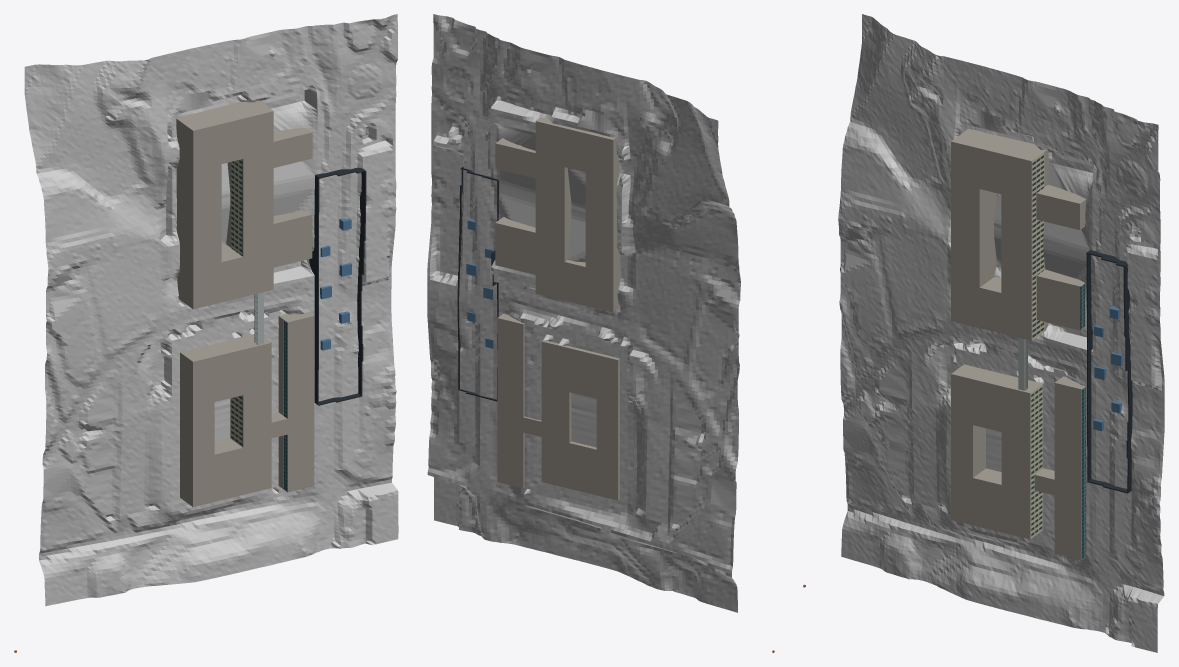
The model's file is povo_blockout.obj.
3 renders of one model, left to right at view 1: azimuth 30°, elevation 25°; view 2: azimuth 150°, elevation 25°; view 3: azimuth 330°, elevation 25°, orthographic. The views are drawn at different scales.
Parts seen in each view (by area): view 1: terrain, povo2_west, povo2_east, povo1_east_low_volume, povo1_west, povo1_east, povo2_southeast_annex, povo1_north, povo1_south, povo2_northeast_annex, povo2_north, povo2_south (+2 smaller); view 2: terrain, povo2_west, povo2_east, povo1_east_low_volume, povo1_east, povo1_west, povo2_southeast_annex, povo1_south, povo1_north, povo2_northeast_annex, povo2_south, povo2_north; view 3: terrain, povo2_west, povo2_east, povo1_east_low_volume, povo1_east, povo1_west, povo2_southeast_annex, povo2_northeast_annex, povo1_north, povo1_south, arch_povo1_core_east_0000, povo2_north (+3 smaller).
Part boxes in pixels (<box>): terrain: <box>24,14,398,606</box>; povo2_west: <box>176,111,221,309</box>; povo2_east: <box>226,100,273,296</box>; povo1_east_low_volume: <box>278,313,314,492</box>; povo1_west: <box>180,347,214,507</box>; povo1_east: <box>230,334,271,494</box>; povo2_southeast_annex: <box>273,211,312,267</box>; povo1_north: <box>202,340,243,401</box>; povo1_south: <box>214,438,243,501</box>; povo2_northeast_annex: <box>273,128,312,167</box>; povo2_north: <box>204,105,243,163</box>; povo2_south: <box>221,244,243,302</box>; terrain: <box>427,14,740,612</box>; povo2_west: <box>585,131,619,312</box>; povo2_east: <box>535,117,571,300</box>; povo1_east_low_volume: <box>497,314,524,488</box>; povo1_east: <box>541,340,571,488</box>; povo1_west: <box>596,353,619,500</box>; povo2_southeast_annex: <box>495,217,535,274</box>; povo1_south: <box>569,441,596,495</box>; povo1_north: <box>569,346,598,398</box>; povo2_northeast_annex: <box>495,138,535,178</box>; povo2_south: <box>564,260,585,305</box>; povo2_north: <box>564,126,587,171</box>; terrain: <box>838,14,1164,652</box>; povo2_west: <box>951,129,996,327</box>; povo2_east: <box>1001,140,1049,340</box>; povo1_east_low_volume: <box>1054,376,1085,559</box>; povo1_east: <box>1001,377,1043,539</box>; povo1_west: <box>951,364,985,525</box>; povo2_southeast_annex: <box>1036,269,1086,330</box>; povo2_northeast_annex: <box>1036,184,1086,229</box>; povo1_north: <box>973,369,1014,431</box>; povo1_south: <box>973,468,1001,532</box>; arch_povo1_core_east_0000: <box>1030,384,1042,538</box>; povo2_north: <box>979,135,1018,193</box>.
Size of the model in its own units: 220 by 320 by 41.81.
